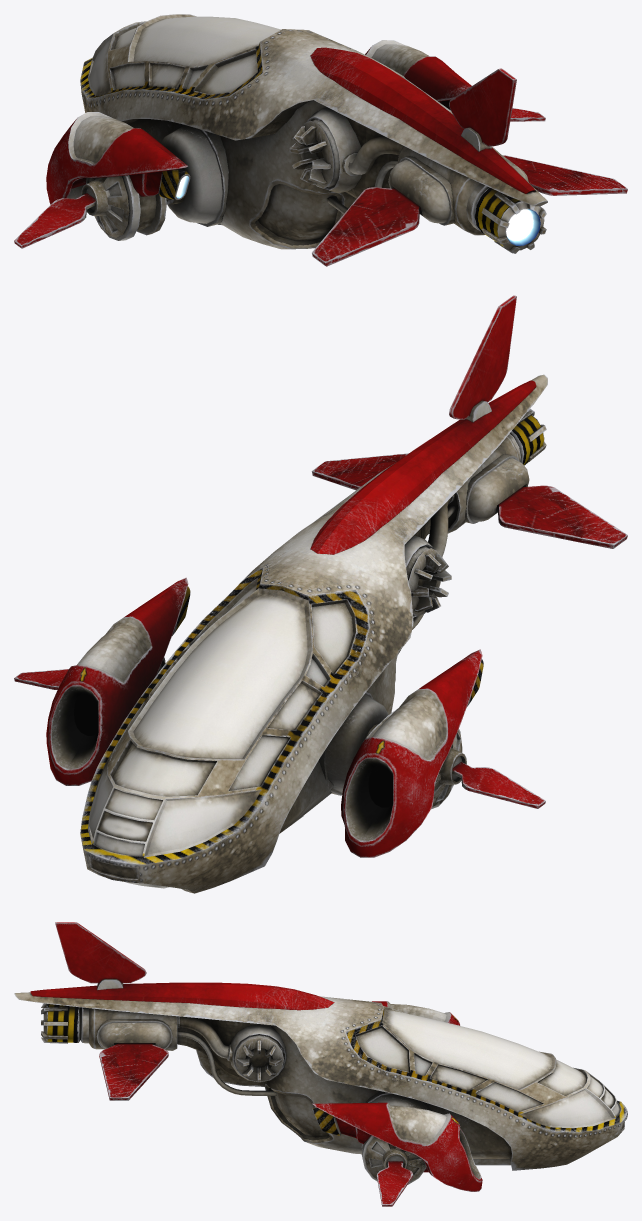
File: ship.fbx
3 views of the same model, one above another, from view 1: azimuth 30°, elevation 25°; view 2: azimuth 150°, elevation 25°; view 3: azimuth 270°, elevation 25° (orthographic). The views are drawn at different scales.
Parts seen in each view (by area): view 1: ship, glass; view 2: ship, glass; view 3: ship, glass.
Boxes of the visible parts, box(x1,y1,x2,y2) form: ship: box(14, 14, 627, 266); glass: box(89, 16, 280, 94); ship: box(14, 295, 627, 893); glass: box(89, 584, 353, 888); ship: box(14, 922, 627, 1206); glass: box(356, 1009, 623, 1128).
Bounding box in the file's own units: 11.81 × 6.93 × 16.95.
